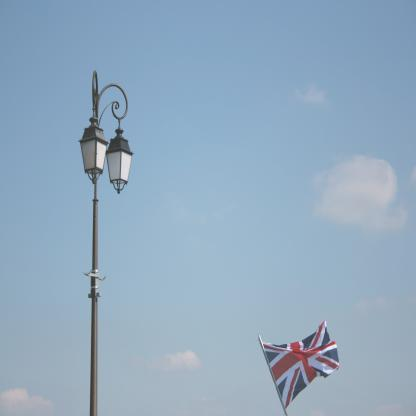light_pole: (77, 69, 133, 415)
